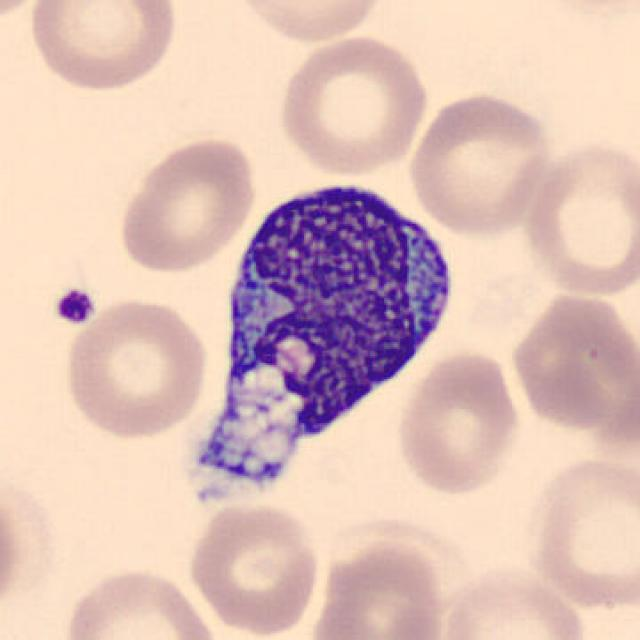Monocyte: (192, 159, 466, 511)
Platelets: (50, 284, 98, 330)
RBC: (59, 292, 213, 442), (274, 32, 432, 178), (406, 88, 558, 238), (113, 134, 260, 275), (506, 286, 636, 444), (391, 346, 523, 499), (519, 134, 638, 300), (185, 499, 323, 638), (519, 453, 638, 614), (308, 532, 450, 640), (23, 0, 181, 95), (59, 562, 222, 640), (435, 560, 590, 640), (228, 0, 391, 46), (0, 469, 27, 629), (0, 0, 60, 23)
